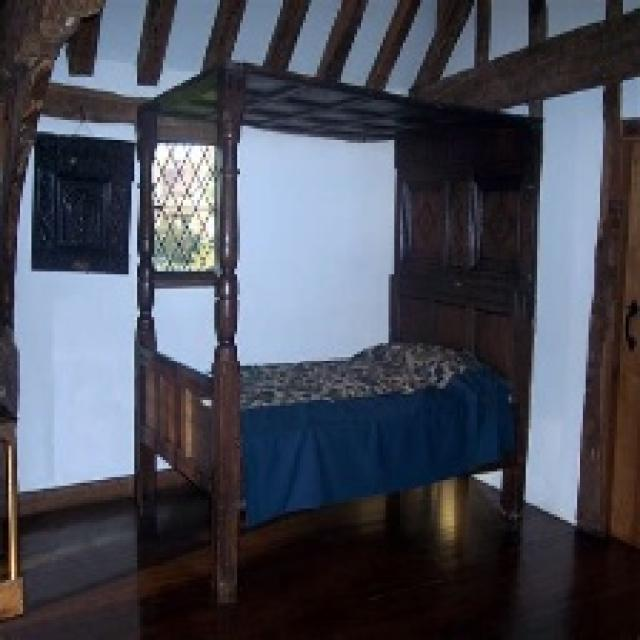Bed: (131, 60, 543, 603)
